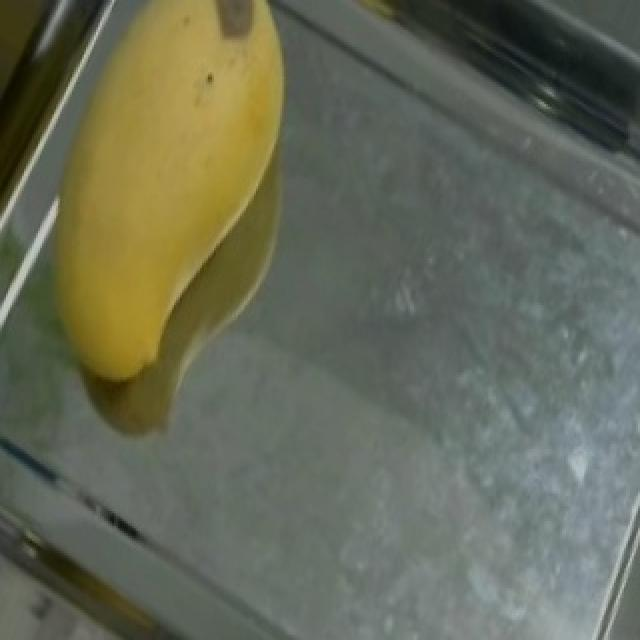fruit: (0, 0, 366, 352)
